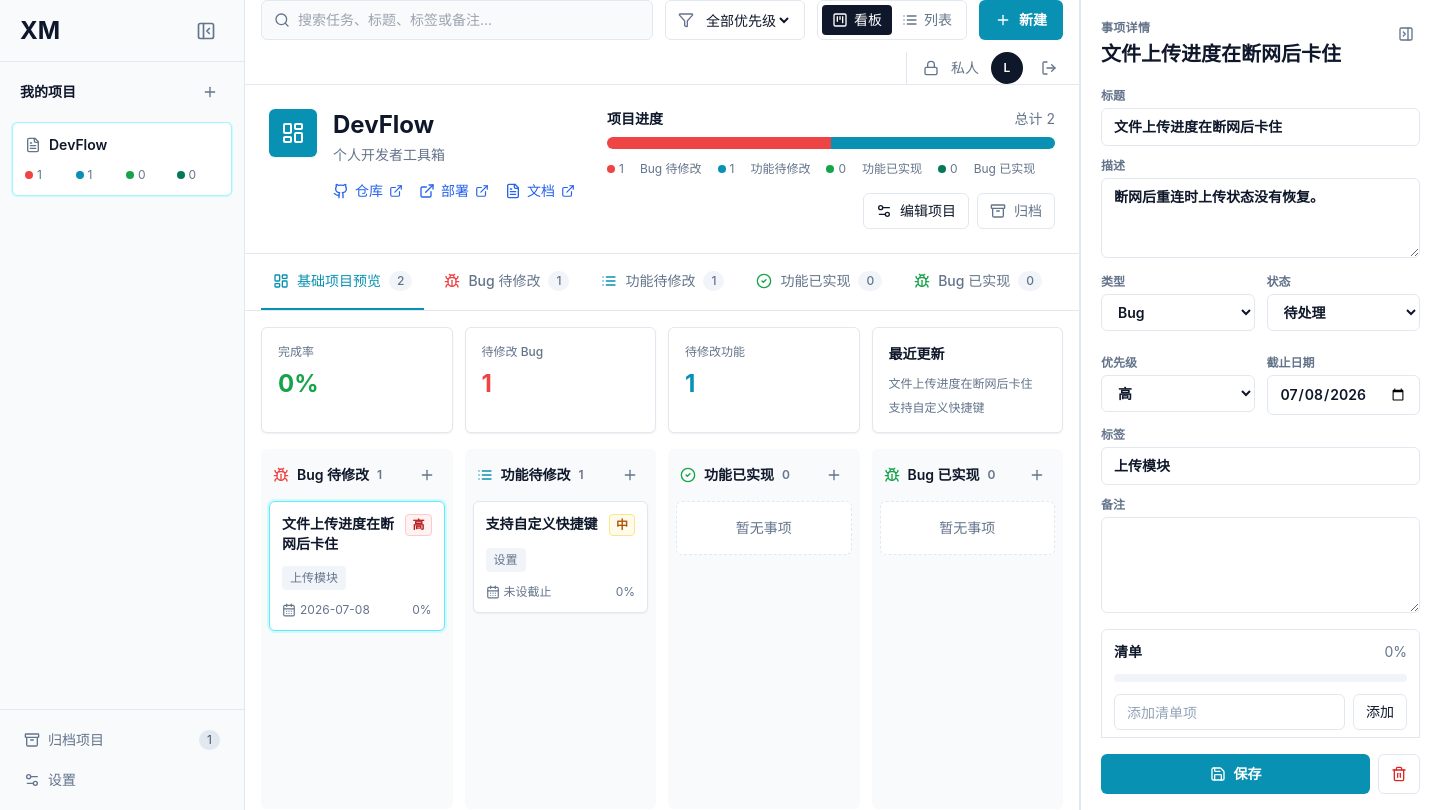
App › restores archived projects from settings
Expected: the heading "DevFlow" is shown, left=333, top=110, right=434, bottom=139
Click the button "归档项目 1" at (122, 740), box left=12, top=722, right=232, bottom=758
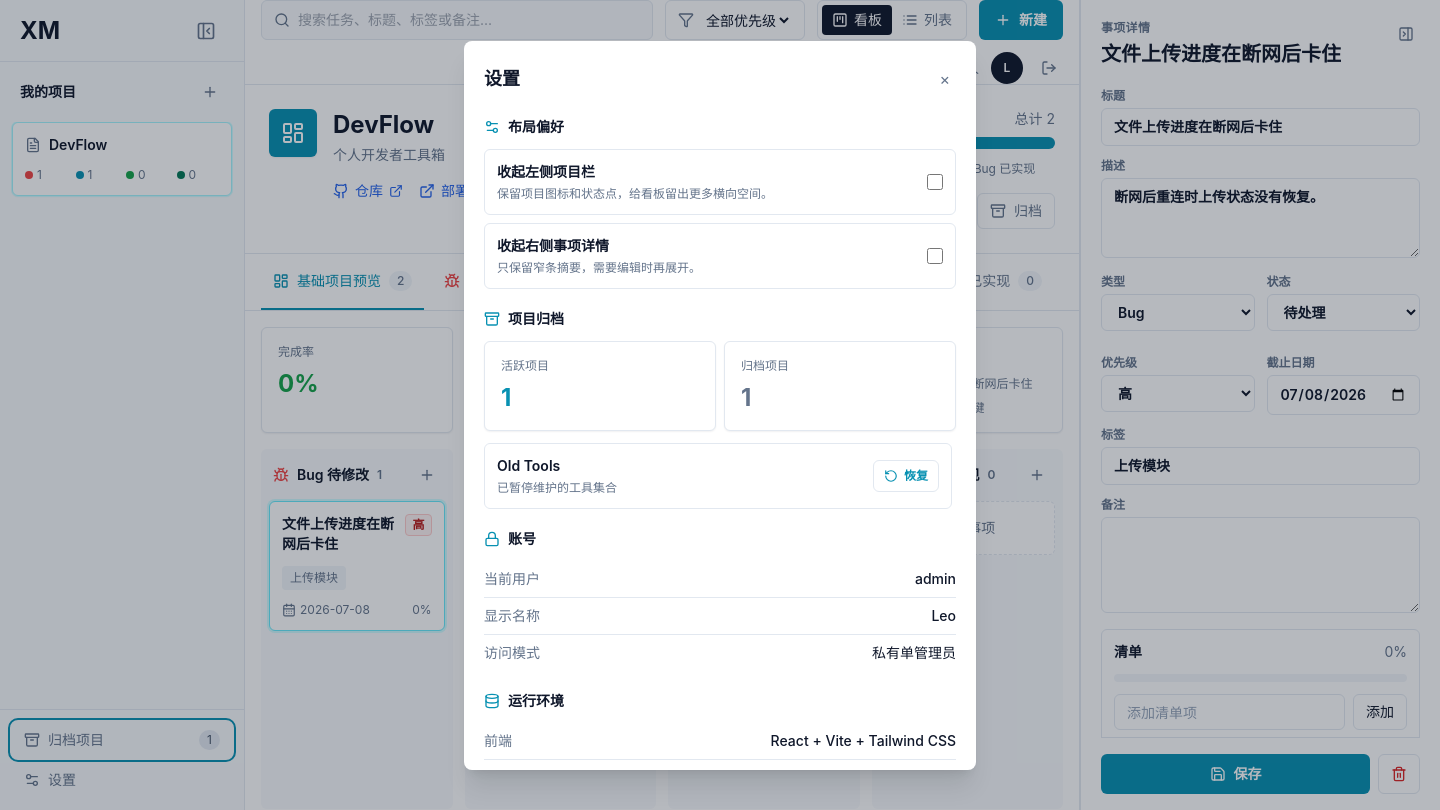
Expected: the text "Old Tools" is shown, left=497, top=456, right=560, bottom=474
Click the button with aria-label "恢复项目 Old Tools" at (906, 476), box left=873, top=460, right=939, bottom=492
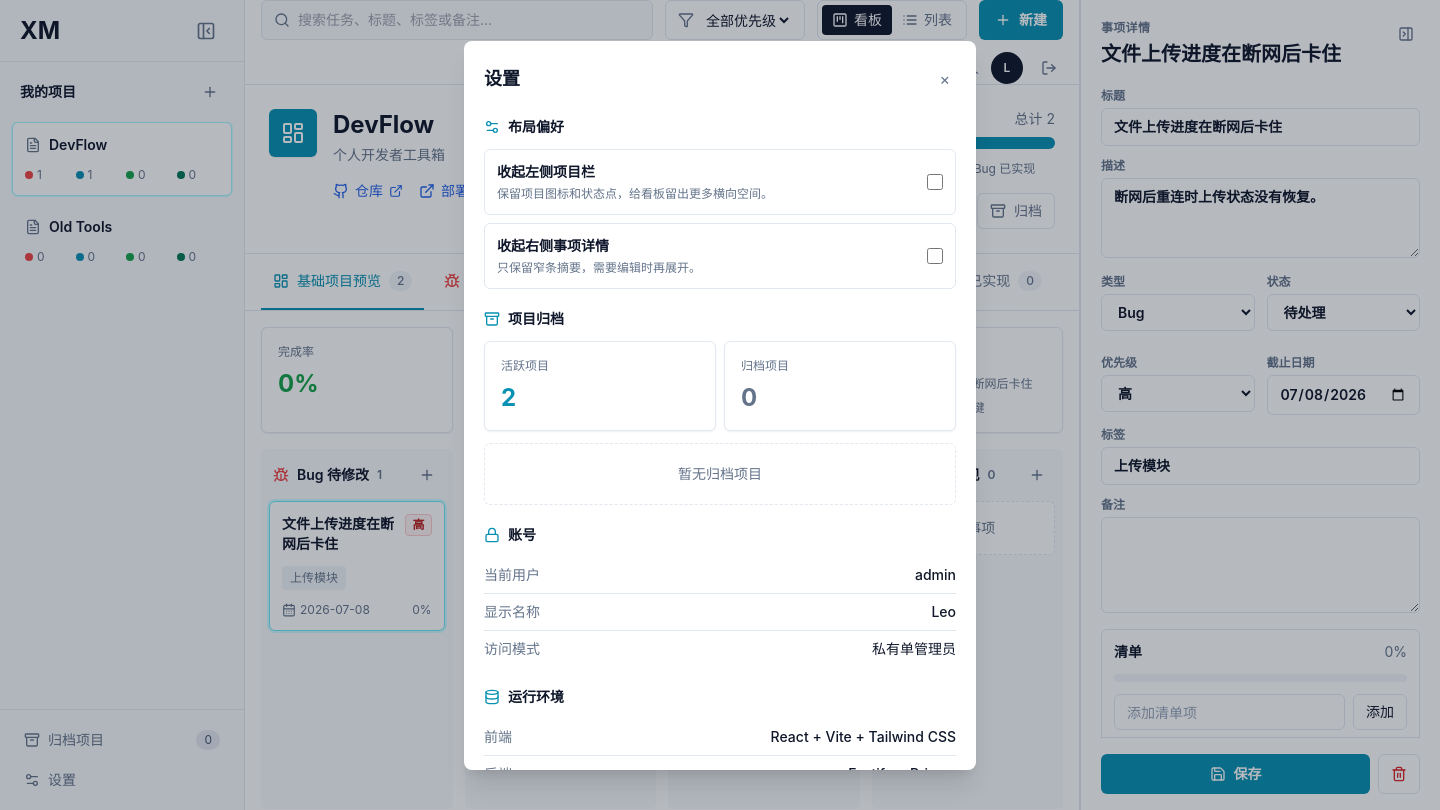
Expected: the text "暂无归档项目" is shown, left=484, top=442, right=956, bottom=504
